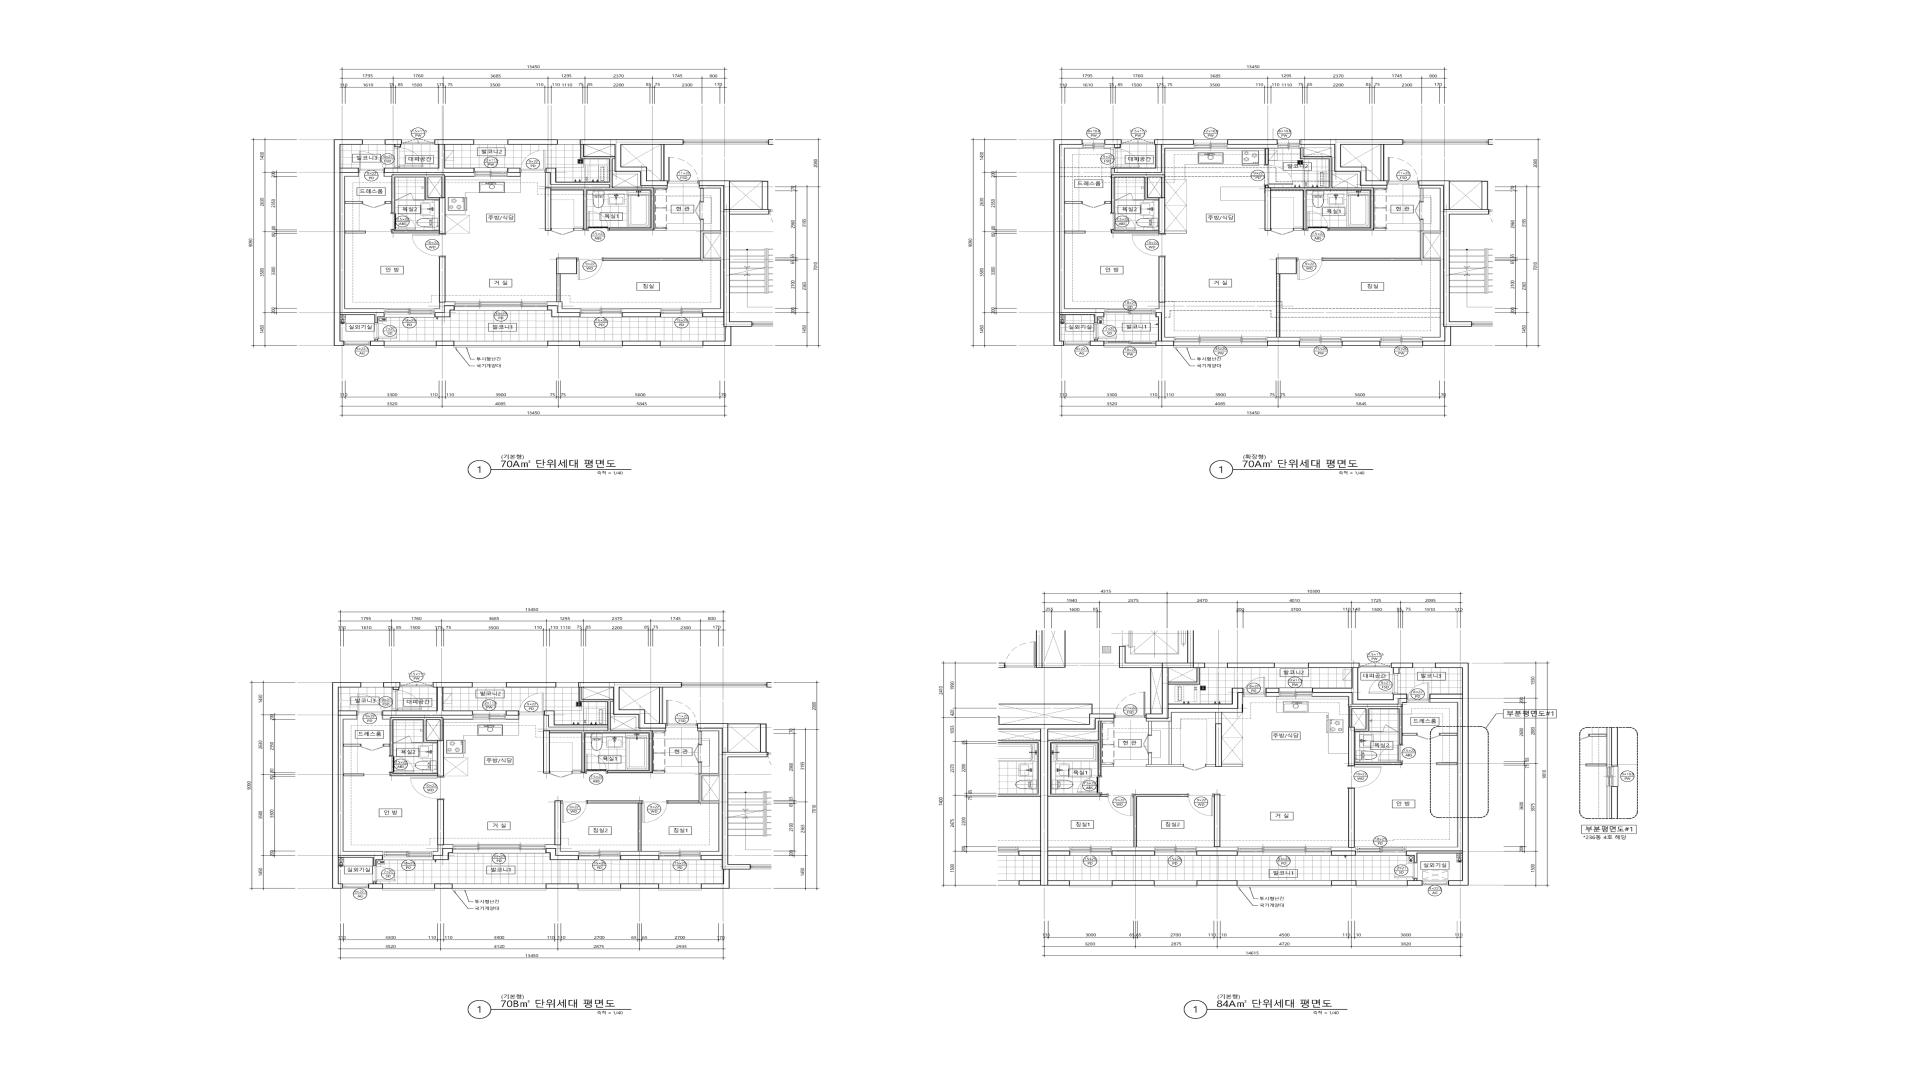door: (666, 700, 698, 728), (1387, 157, 1419, 183), (667, 157, 699, 183), (1114, 692, 1146, 717), (413, 233, 446, 257), (1133, 233, 1166, 257), (410, 777, 444, 799), (1349, 766, 1382, 789), (1265, 165, 1294, 186), (393, 690, 422, 711), (1369, 674, 1399, 694), (560, 800, 587, 823), (518, 692, 545, 715), (520, 150, 546, 173), (1188, 794, 1215, 816), (1108, 794, 1134, 816), (394, 148, 423, 167), (1110, 148, 1139, 167), (642, 800, 667, 823), (357, 694, 382, 716), (1296, 258, 1323, 280), (576, 258, 603, 280), (359, 152, 384, 173), (1307, 211, 1329, 231), (587, 211, 609, 231), (1407, 683, 1429, 703), (1244, 676, 1266, 696), (1378, 745, 1403, 762), (585, 754, 608, 773), (390, 756, 414, 773), (1077, 777, 1101, 794), (392, 214, 415, 229), (373, 866, 396, 882), (1095, 323, 1117, 339), (375, 323, 397, 339), (1395, 862, 1418, 878), (695, 200, 704, 220), (360, 744, 384, 750), (1081, 202, 1105, 208), (1416, 733, 1440, 740), (550, 771, 572, 778), (1271, 228, 1294, 235), (551, 228, 574, 235), (363, 202, 385, 208), (393, 736, 411, 744), (1415, 202, 1423, 220), (1143, 735, 1151, 753), (694, 745, 702, 762), (1116, 193, 1133, 200), (396, 193, 413, 200), (1183, 765, 1207, 770), (1383, 725, 1399, 732)
wall: (1323, 186, 1445, 342), (1406, 663, 1469, 886), (543, 682, 682, 774), (1040, 713, 1114, 886), (698, 724, 767, 889), (1419, 181, 1489, 345), (699, 181, 769, 345), (332, 682, 382, 889), (1054, 140, 1104, 345), (334, 140, 384, 345), (1271, 145, 1387, 231), (545, 145, 654, 231), (1120, 646, 1244, 719), (1406, 699, 1462, 851), (1146, 692, 1244, 766), (339, 716, 382, 856), (340, 173, 384, 313), (603, 220, 720, 261), (1300, 140, 1403, 186), (580, 140, 683, 186), (1308, 663, 1407, 704), (390, 717, 444, 777), (1349, 707, 1403, 766), (699, 186, 724, 313), (382, 682, 472, 716), (698, 729, 721, 856), (1110, 140, 1195, 175), (384, 140, 475, 173), (1134, 794, 1188, 847), (587, 800, 642, 852), (1105, 175, 1166, 214), (1267, 274, 1299, 342), (392, 174, 444, 214), (611, 702, 666, 731), (613, 160, 667, 187), (1312, 694, 1407, 707), (543, 715, 608, 731), (1228, 145, 1278, 165), (1048, 719, 1114, 732), (1155, 302, 1174, 342), (1155, 313, 1174, 345), (1423, 233, 1441, 258), (702, 777, 719, 800), (546, 848, 579, 860), (546, 844, 579, 856), (1168, 669, 1197, 682), (384, 173, 475, 177), (382, 716, 472, 720), (547, 306, 580, 316), (547, 302, 580, 313), (1276, 257, 1296, 274), (556, 257, 576, 274), (1349, 789, 1354, 848), (438, 799, 444, 845), (554, 800, 560, 845), (439, 257, 446, 302), (1159, 257, 1166, 302), (1265, 186, 1271, 231), (426, 720, 440, 740), (1352, 709, 1366, 729), (1215, 794, 1220, 847), (1216, 724, 1222, 766), (1303, 148, 1332, 157), (506, 682, 556, 687), (1228, 140, 1278, 145), (508, 140, 558, 145), (1228, 663, 1275, 669), (1391, 663, 1414, 674), (433, 848, 452, 860), (433, 844, 452, 856), (1159, 198, 1166, 233), (439, 198, 446, 233), (1112, 851, 1155, 856), (1112, 881, 1154, 886), (1196, 851, 1237, 856), (620, 851, 659, 856), (1197, 881, 1237, 886), (435, 306, 455, 316), (435, 302, 455, 313), (621, 884, 658, 889), (392, 229, 439, 233), (1112, 229, 1159, 233), (1112, 847, 1155, 851), (546, 884, 578, 889), (1196, 847, 1237, 851), (620, 856, 659, 860), (1342, 342, 1381, 345), (1342, 338, 1381, 342), (622, 309, 661, 313), (622, 342, 661, 345), (622, 313, 661, 316), (661, 145, 665, 181), (1381, 145, 1385, 181), (384, 682, 401, 690), (385, 140, 402, 148), (1105, 140, 1122, 148), (1332, 881, 1356, 886), (1407, 878, 1423, 886), (1332, 851, 1356, 856), (1267, 342, 1299, 345), (547, 342, 579, 345), (508, 167, 520, 177), (556, 274, 560, 302), (659, 687, 662, 724), (434, 884, 452, 889), (368, 882, 382, 889), (1332, 847, 1356, 851), (1091, 339, 1104, 345), (371, 339, 384, 345), (667, 800, 699, 803), (1048, 847, 1069, 851), (505, 711, 518, 716), (436, 342, 454, 345), (1150, 669, 1151, 713), (1064, 231, 1085, 233), (1166, 231, 1187, 233), (505, 716, 518, 720), (345, 231, 365, 233), (700, 189, 704, 202), (1266, 688, 1279, 692), (1266, 692, 1279, 696), (1064, 202, 1081, 204), (345, 202, 363, 204), (1449, 181, 1482, 182), (731, 181, 762, 182), (1105, 145, 1114, 149), (1403, 733, 1416, 736), (653, 770, 665, 773), (654, 228, 666, 231), (574, 228, 584, 231), (1222, 765, 1244, 766), (384, 744, 390, 746), (385, 202, 392, 204), (1101, 765, 1114, 766), (413, 199, 425, 200), (411, 742, 422, 744), (1133, 199, 1143, 200), (572, 771, 582, 773), (1207, 765, 1216, 766), (728, 724, 761, 724), (1370, 732, 1383, 732)
window: (1174, 338, 1267, 348), (1237, 847, 1332, 856), (452, 844, 546, 853), (455, 302, 547, 310), (1237, 881, 1332, 887), (452, 884, 546, 890), (454, 342, 547, 348), (384, 309, 435, 318), (1356, 847, 1406, 856), (1379, 338, 1423, 348), (1299, 338, 1342, 348), (382, 852, 433, 860), (661, 309, 703, 318), (580, 309, 622, 318), (1069, 847, 1112, 856), (659, 851, 700, 860), (579, 851, 620, 860), (1155, 847, 1196, 856), (382, 884, 435, 890), (1104, 342, 1156, 348), (384, 342, 436, 348), (1356, 881, 1407, 887), (472, 711, 506, 720), (1193, 140, 1228, 149), (475, 167, 508, 177), (578, 884, 621, 890), (658, 884, 702, 890), (579, 342, 622, 348), (1154, 881, 1197, 887), (661, 342, 703, 348), (1069, 881, 1112, 887), (1104, 309, 1155, 314), (1279, 688, 1312, 696), (1122, 138, 1154, 145), (402, 138, 434, 145), (1278, 140, 1300, 149), (1083, 140, 1105, 149), (472, 682, 506, 687), (473, 140, 508, 145), (400, 682, 433, 687), (1275, 663, 1308, 669), (1360, 662, 1391, 667), (343, 884, 368, 889), (361, 682, 384, 687), (556, 682, 579, 687), (363, 140, 385, 145), (558, 140, 580, 145), (344, 342, 371, 345), (1064, 342, 1091, 345), (1423, 881, 1448, 885), (1205, 663, 1228, 667), (1414, 663, 1435, 667)
